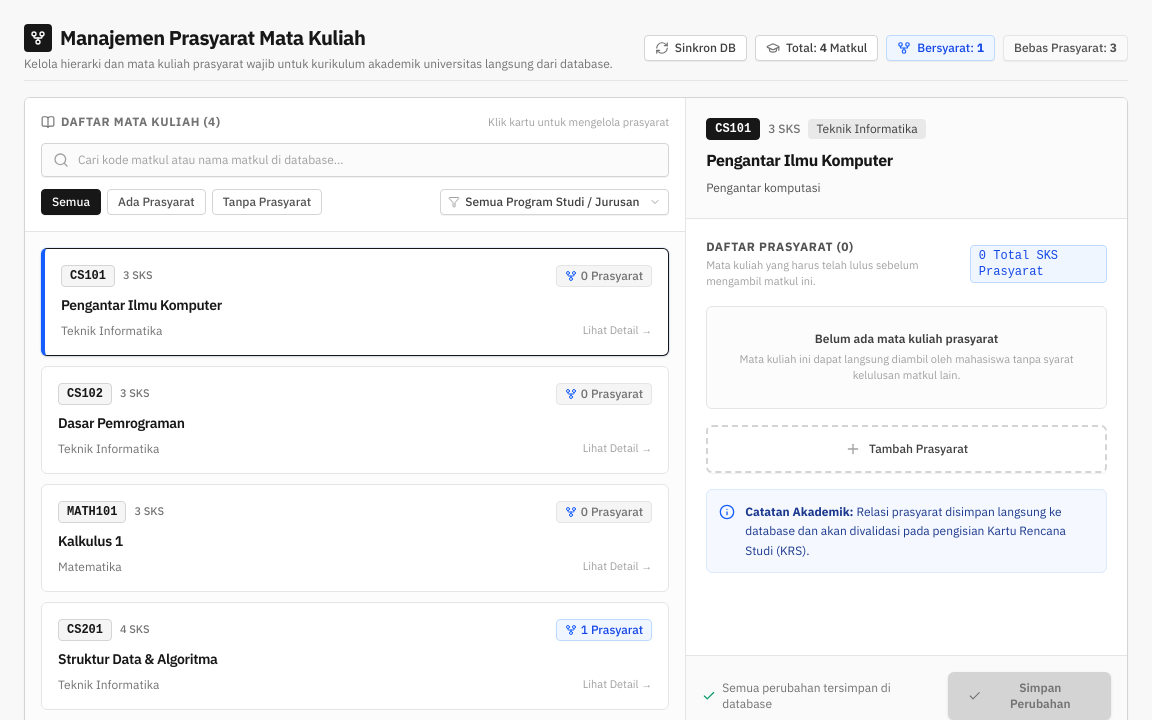
Scenario: SubjectPrerequisitesPage › filters subjects when clicking 'Ada Prasyarat' and 'Tanpa Prasyarat'
Expected: the text "CS101" below "Daftar Mata Kuliah (" is shown, [70,268,106,282]
Expected: the text "CS201" is shown, [58,618,112,640]
What coordinates should you click on to do the following:
click the button "Tanpa Prasyarat"
I would click on:
 (267, 202)
Its box is [212,188,322,214].
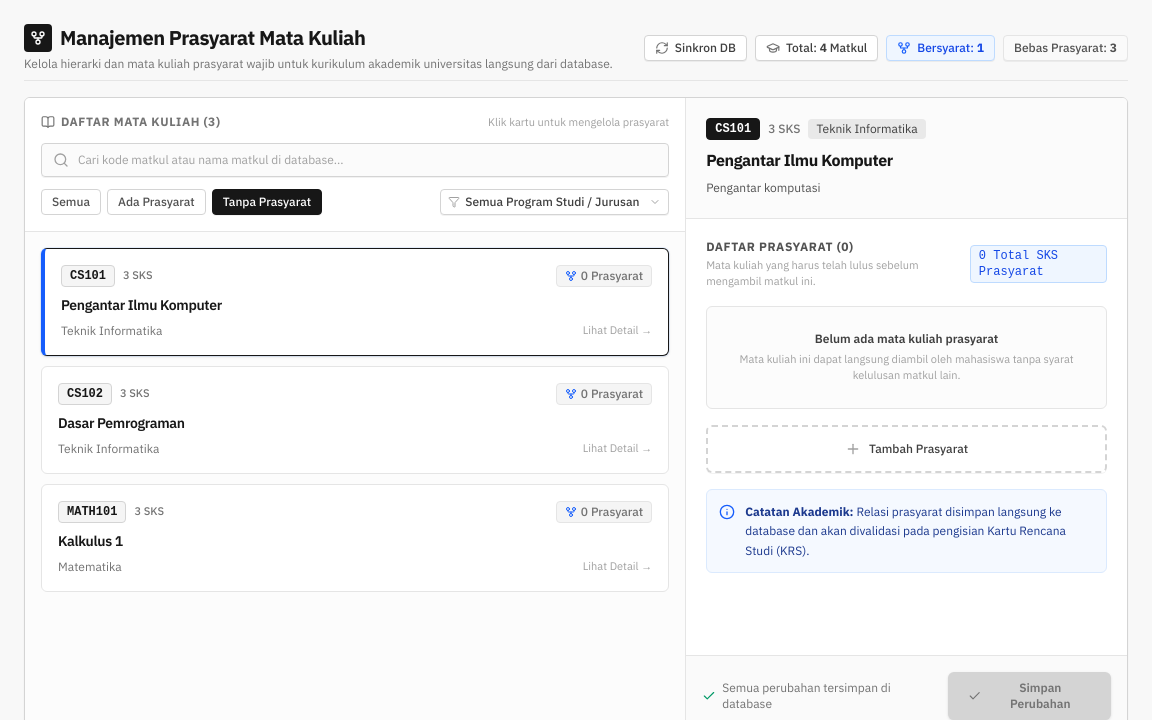
Expected: the text "CS101" below "Daftar Mata Kuliah (" is shown, [70,268,106,282]
Expected: the button "CS201" is gone
What coordinates should you click on to do the following:
click the button "Ada Prasyarat"
I would click on:
 (156, 202)
Its box is [107,188,206,214].
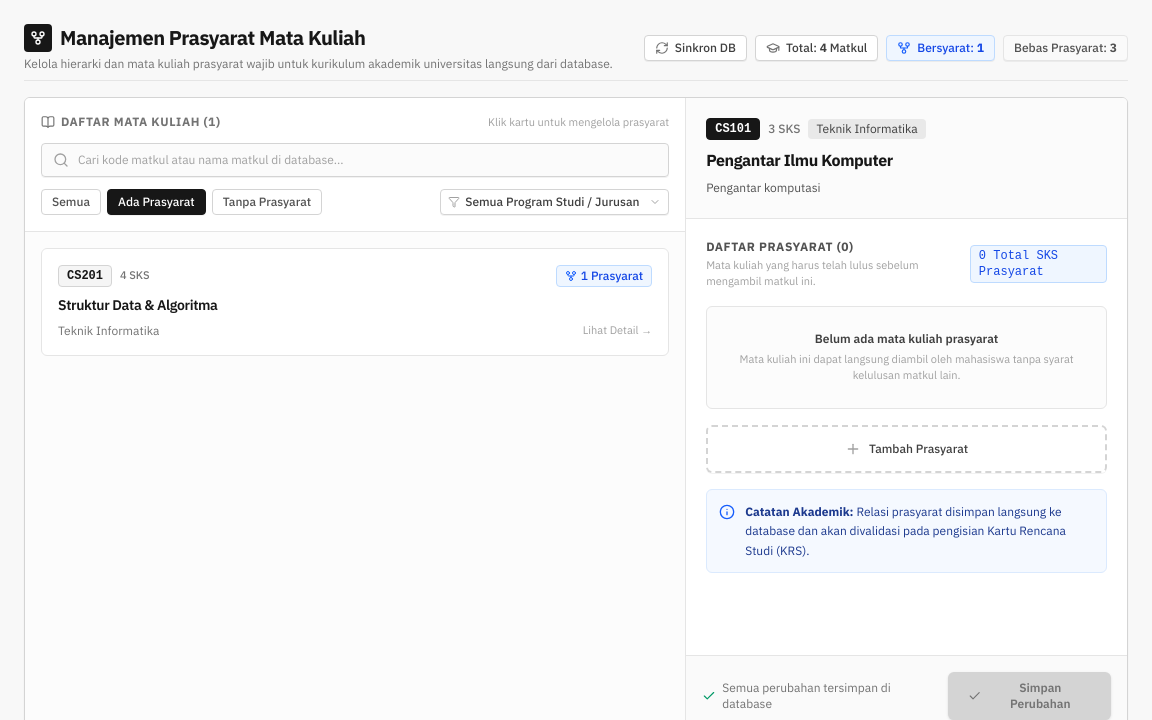
Expected: the text "CS201" is shown, [58,264,112,286]
